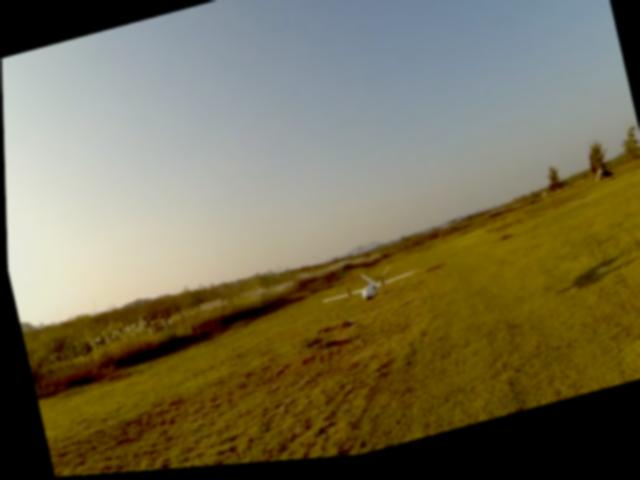uav: (310, 252, 428, 328)
